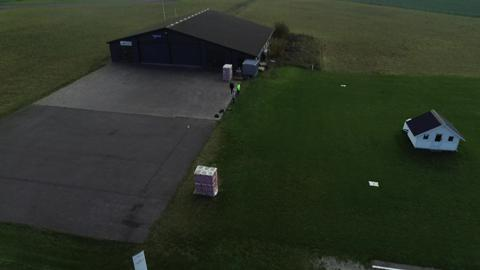RockwoolPallet: (192, 165, 220, 198)
